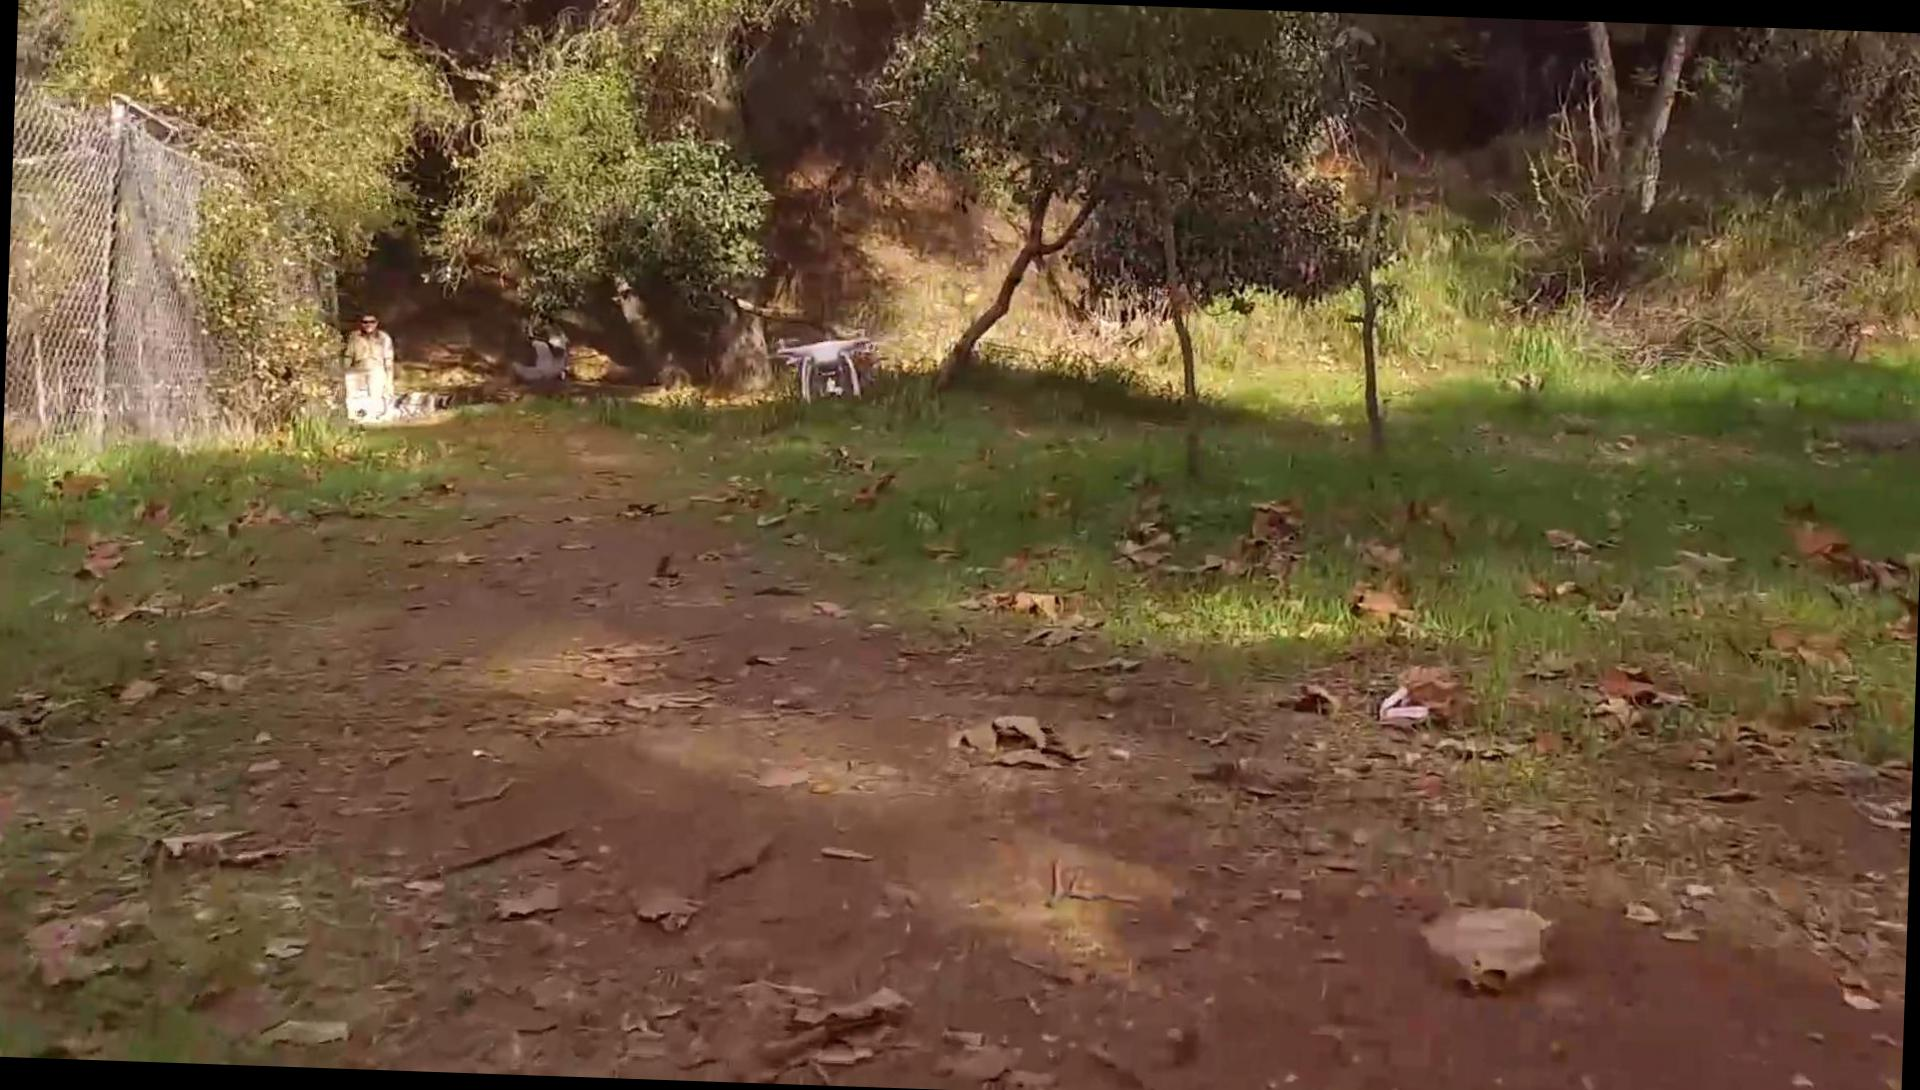drone: (758, 320, 885, 403)
